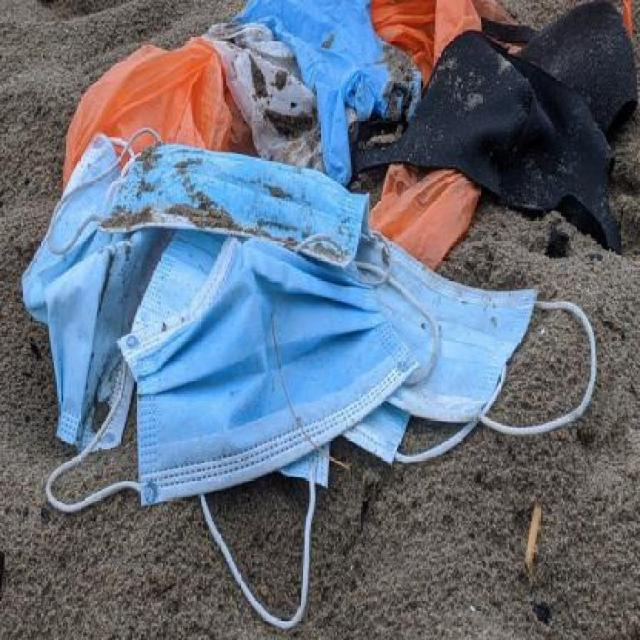B3: (87, 246, 439, 500), (18, 113, 185, 490), (306, 258, 574, 465), (108, 132, 367, 276)
